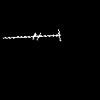treble_crochet: (5, 30, 60, 40)
